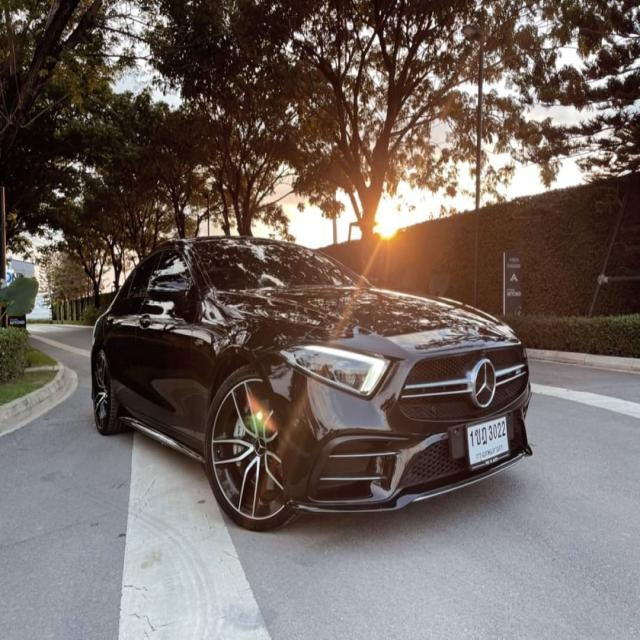license_plate: (465, 411, 513, 475)
